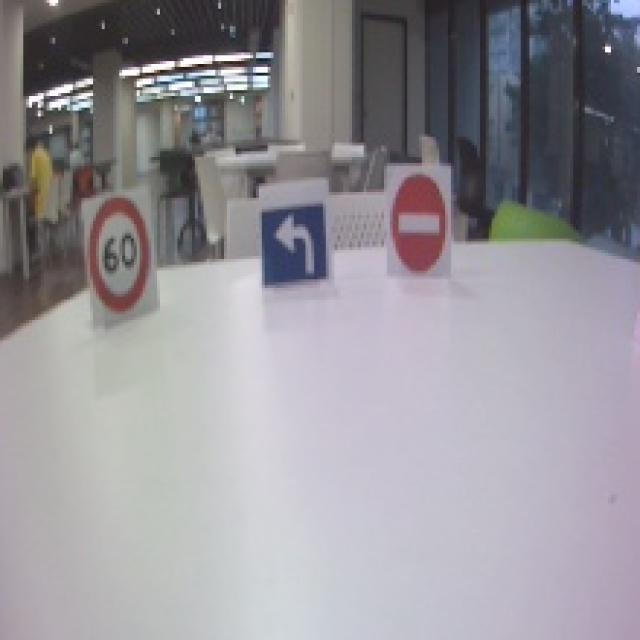DoNotEnterSign: (391, 170, 454, 276)
